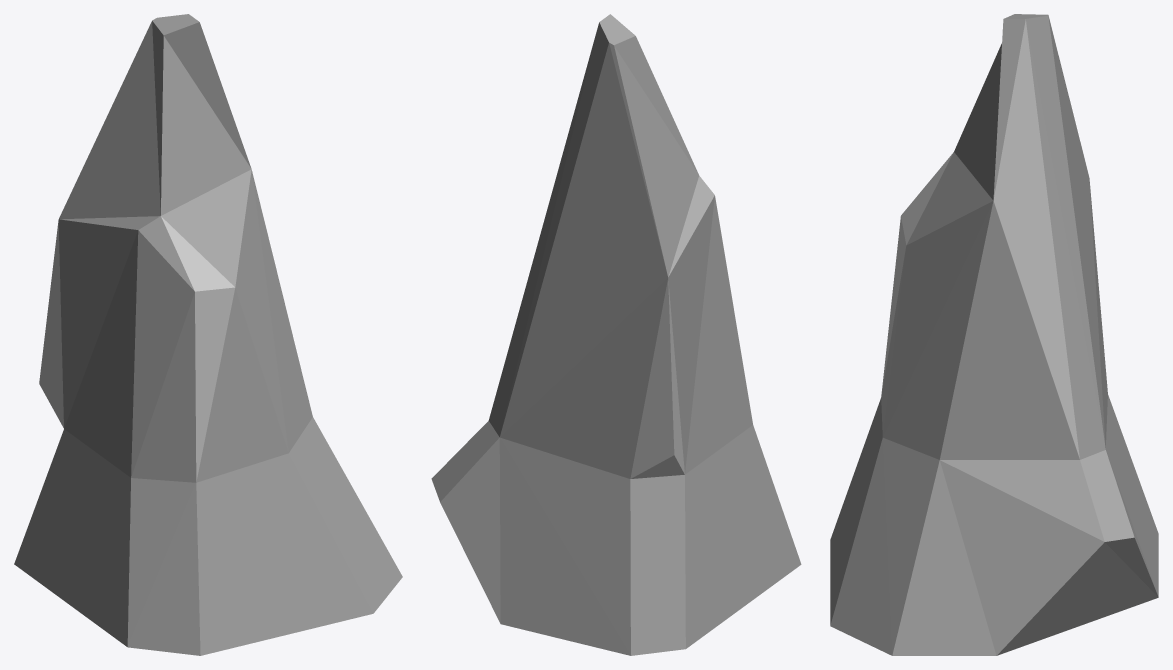
The model's file is ruin_4.fbx.
The picture shows the model from 3 angles, left to right: view 1: azimuth 30°, elevation 25°; view 2: azimuth 150°, elevation 25°; view 3: azimuth 270°, elevation 25°; orthographic projection. The views are drawn at different scales.
Visible parts, largest first — view 1: ruin_4; view 2: ruin_4; view 3: ruin_4.
Part boxes in pixels (box(x1,y1,x2,y2)): ruin_4: box(14, 14, 402, 655); ruin_4: box(431, 14, 801, 655); ruin_4: box(830, 14, 1158, 655).
Bounding box in the file's own units: 60.19 × 114 × 60.19.
